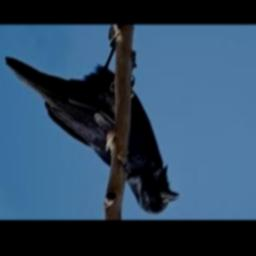Crow: (4, 47, 179, 216)
